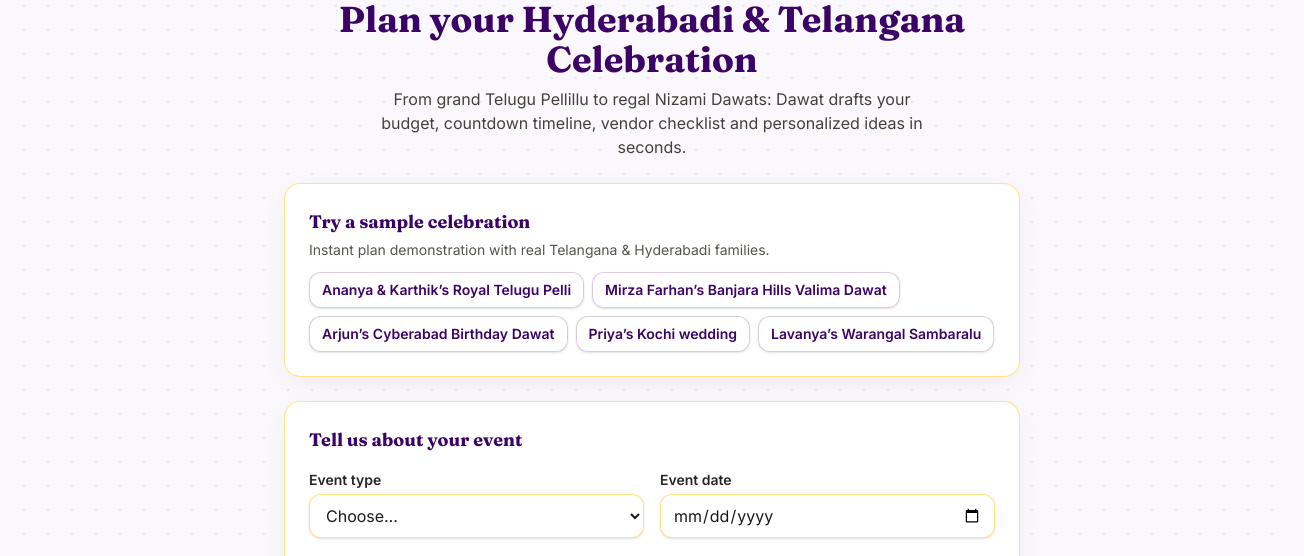
Test case: App (offline judge path) › logs an expense and raises the overspend banner
Click the button "Arjun’s Cyberabad Birthday Dawat": [438, 334] box [309, 316, 568, 352]
(page scrolled)
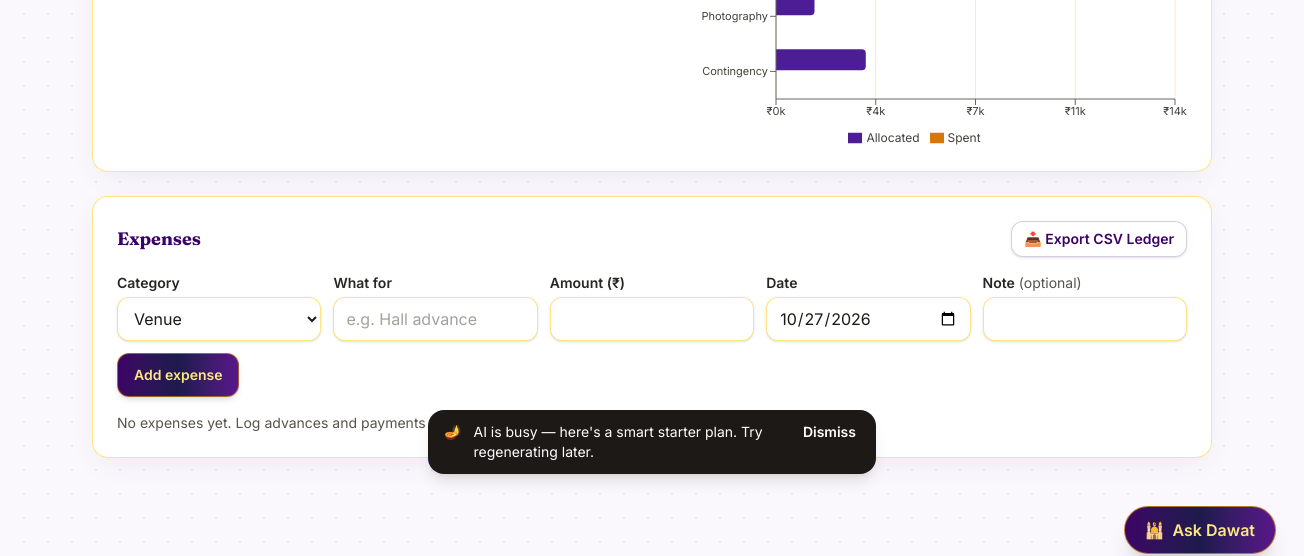
In the field labelled "What for": [436, 319] box [333, 297, 538, 341], type "Hall advance"
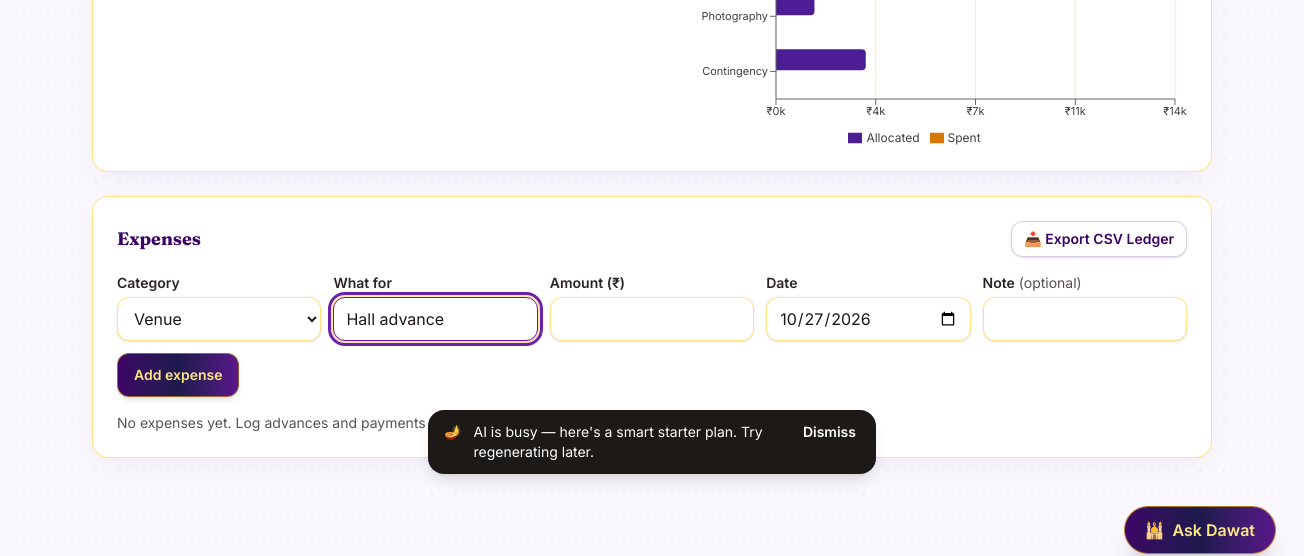
In the number field labelled "Amount (₹)": [652, 319] box [550, 297, 754, 341], type "50000"
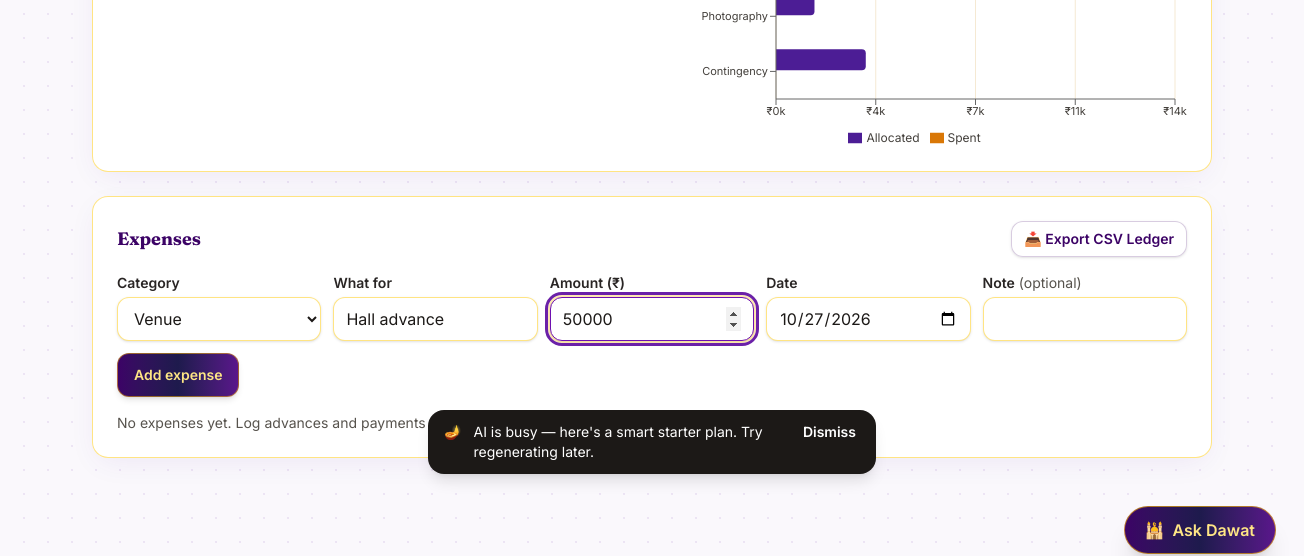
Click the button "Add expense": [178, 375] box [117, 353, 240, 397]
(page scrolled)
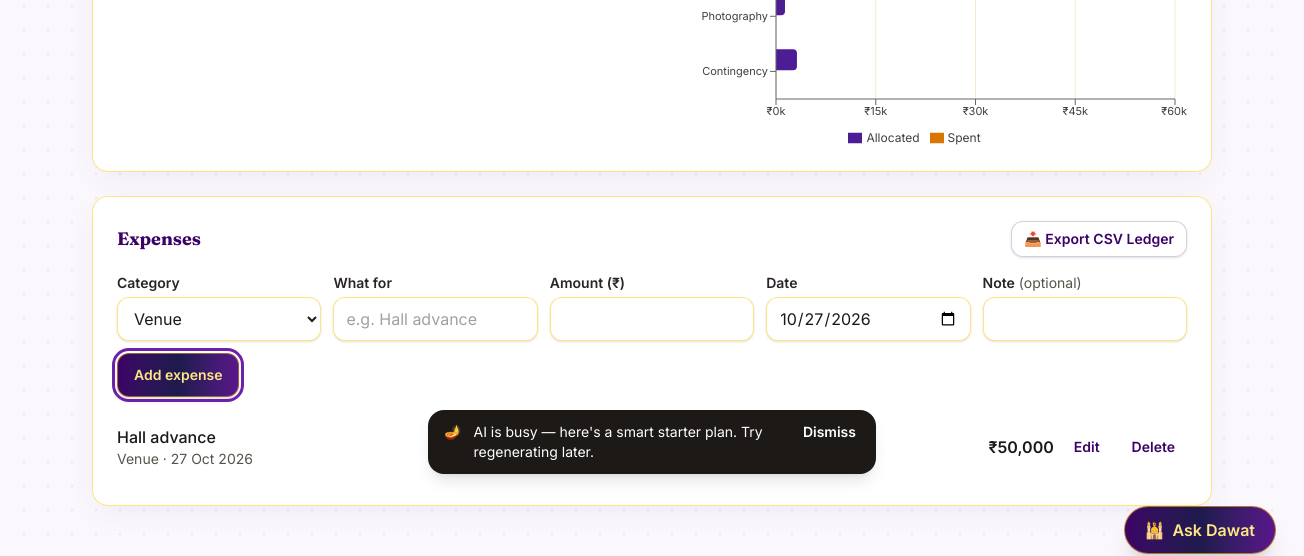
Expected: the list named "Logged expenses" shows "Hall advance", [117, 427, 216, 447]
